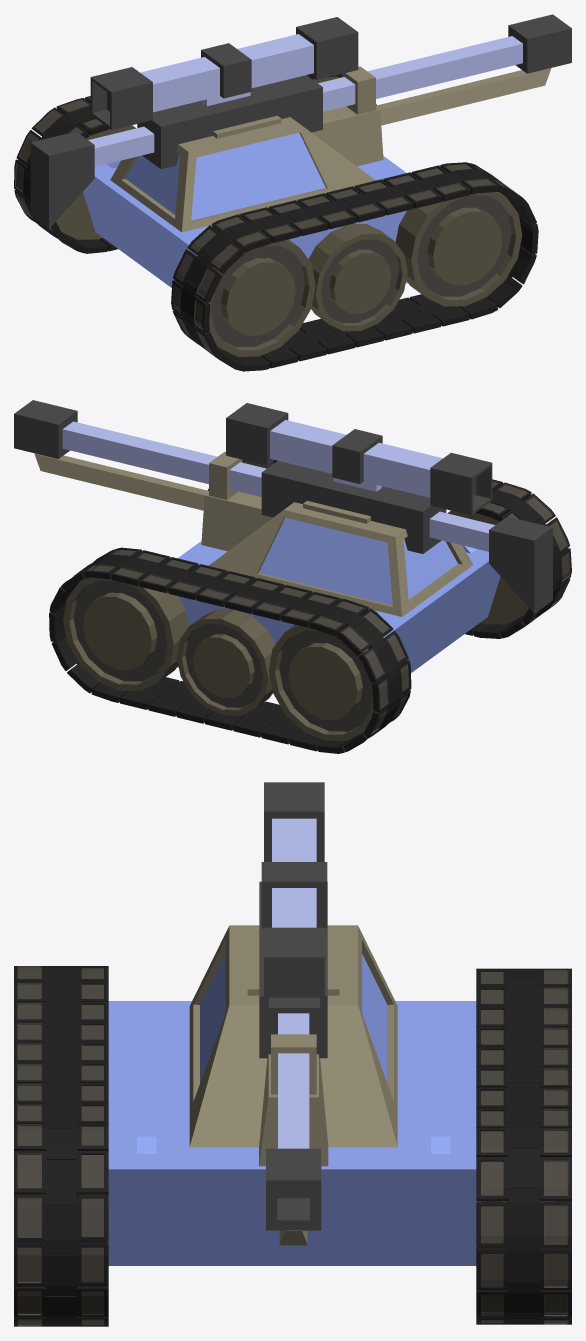
Rendered from SniperTank.fbx.
3 renders of one model, top to bottom at view 1: azimuth 30°, elevation 25°; view 2: azimuth 150°, elevation 25°; view 3: azimuth 270°, elevation 25°, orthographic. The views are drawn at different scales.
Visible parts, largest first — view 1: Cube.229, Cube.227, Cube.230, Cube.231, Cylinder.077, Cylinder.078, Cylinder.079, Cube.226, Cube.228, Cylinder.080; view 2: Cube.229, Cube.228, Cube.230, Cube.231, Cylinder.081, Cylinder.080, Cylinder.082, Cube.226, Cube.227, Cylinder.078; view 3: Cube.226, Cube.227, Cube.228, Cube.229, Cube.231, Cube.230.
Part boxes in pixels (x1=…): Cube.229: x1=110, y1=66, x2=551, y2=232; Cube.227: x1=171, y1=162, x2=538, y2=371; Cube.230: x1=30, y1=14, x2=571, y2=228; Cube.231: x1=90, y1=17, x2=358, y2=129; Cylinder.077: x1=395, y1=192, x2=522, y2=306; Cylinder.078: x1=208, y1=239, x2=315, y2=356; Cylinder.079: x1=308, y1=224, x2=407, y2=331; Cube.226: x1=83, y1=156, x2=407, y2=287; Cube.228: x1=14, y1=74, x2=376, y2=253; Cylinder.080: x1=56, y1=125, x2=135, y2=239; Cube.229: x1=34, y1=451, x2=472, y2=616; Cube.228: x1=49, y1=547, x2=411, y2=753; Cube.230: x1=14, y1=400, x2=552, y2=613; Cube.231: x1=226, y1=403, x2=492, y2=515; Cylinder.081: x1=63, y1=577, x2=188, y2=690; Cylinder.080: x1=268, y1=624, x2=373, y2=741; Cylinder.082: x1=176, y1=608, x2=275, y2=715; Cube.226: x1=177, y1=541, x2=500, y2=672; Cube.227: x1=208, y1=460, x2=571, y2=638; Cylinder.078: x1=447, y1=510, x2=528, y2=624; Cube.226: x1=107, y1=1001, x2=482, y2=1265; Cube.227: x1=14, y1=966, x2=108, y2=1326; Cube.228: x1=476, y1=968, x2=571, y2=1324; Cube.229: x1=189, y1=925, x2=397, y2=1245; Cube.231: x1=261, y1=782, x2=327, y2=1012; Cube.230: x1=259, y1=881, x2=327, y2=1230.
Size of the model in its own units: 306 by 129 by 194.
